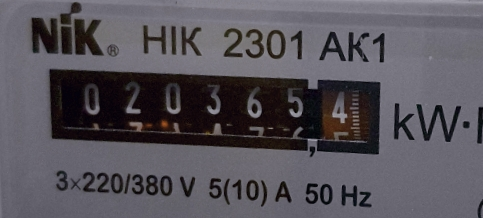0: (162, 78, 184, 116), (80, 80, 103, 115)
2: (119, 78, 144, 115)
3: (203, 79, 224, 115)
4: (329, 88, 350, 123)
5: (283, 84, 306, 118)
6: (243, 82, 265, 119)
screen: (27, 42, 403, 175)
